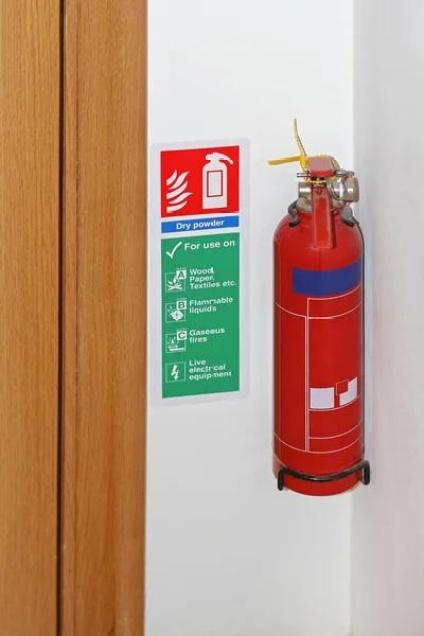APAR: (271, 152, 367, 496)
